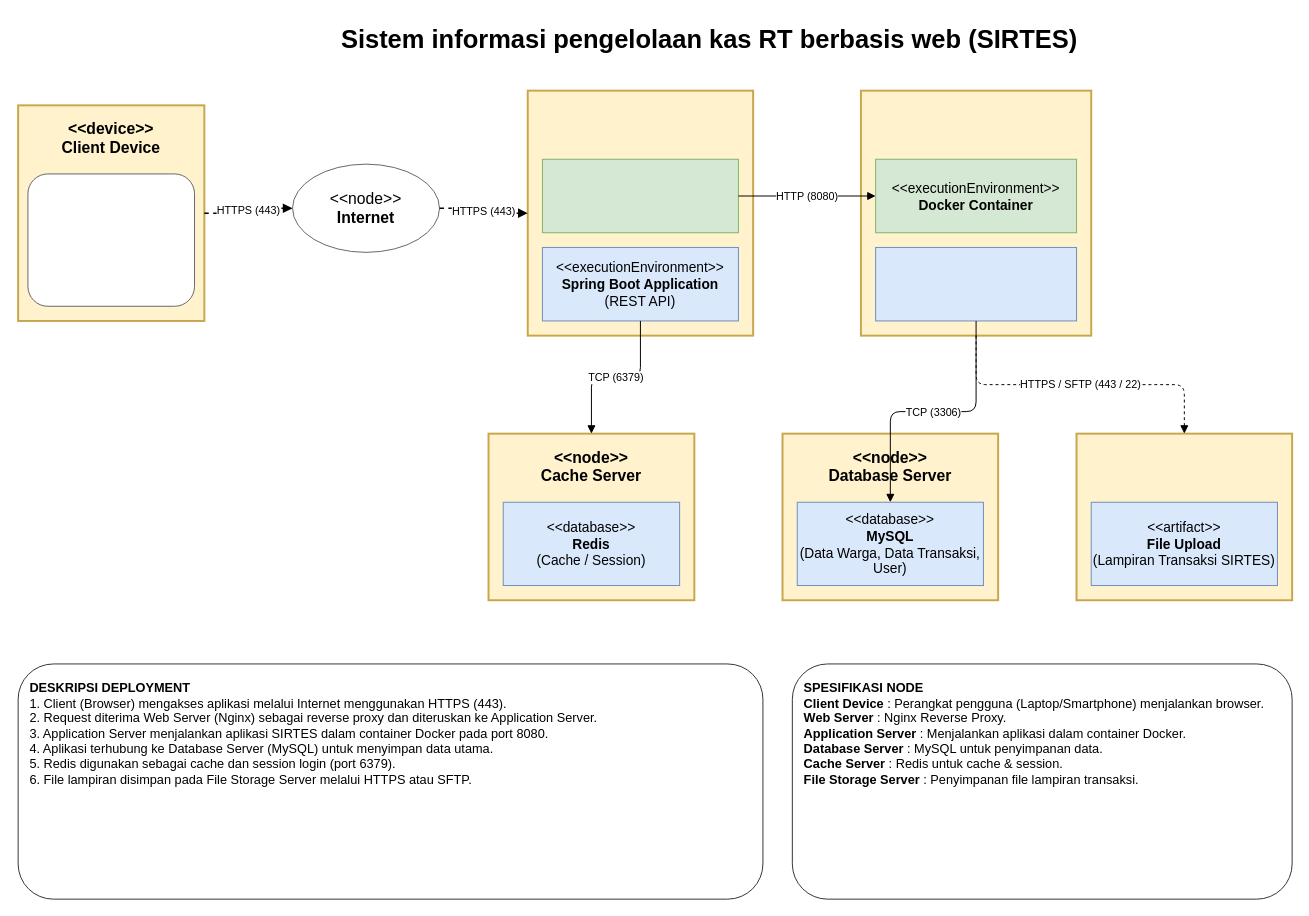
This 1309x916 diagram has some shape labels left out. Each missing label, with the box of its shape:
<<artifact>> sirtres.war (Aplikasi Kas RT SIRTES): (875, 246, 1077, 321)
<<executionEnvironment>> Nginx (Reverse Proxy): (541, 158, 738, 233)
<<node>> Application Server: (859, 89, 1092, 336)
<<node>> File Storage Server: (1075, 432, 1293, 601)
<<node>> Web Server: (526, 89, 754, 336)
Web Browser (Chrome, Firefox, Edge) Mobile Browser: (27, 173, 195, 306)
